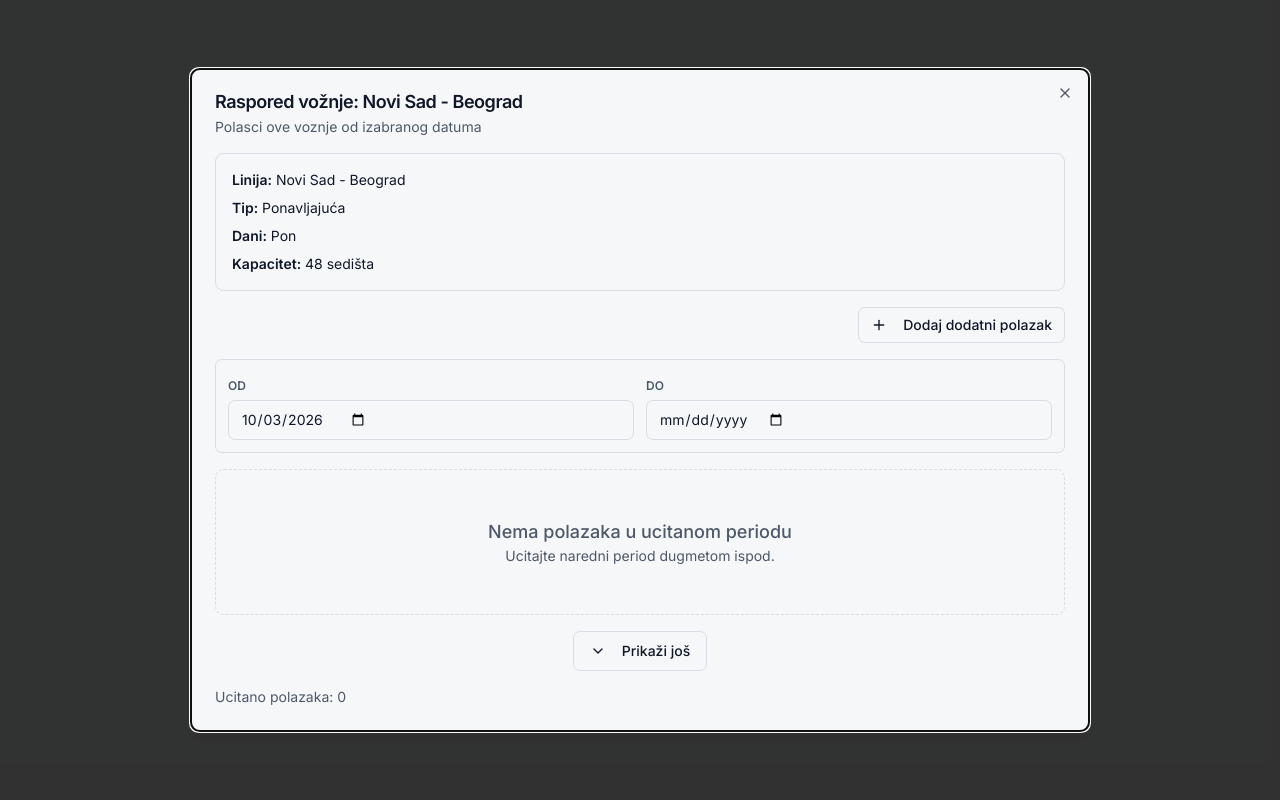
Scenario: RideInstancesView › keeps the date filters when the range has no departures, so it can be changed back
The width and height of the screenshot is (1280, 800).
Check: the text "Nema polazaka u ucitanom periodu" is shown, box [488,518,792,546]
Type "2026-10-04" into the date field labelled "Do".
click(849, 420); type("2026-10-04")  # box [646,400,1052,440]
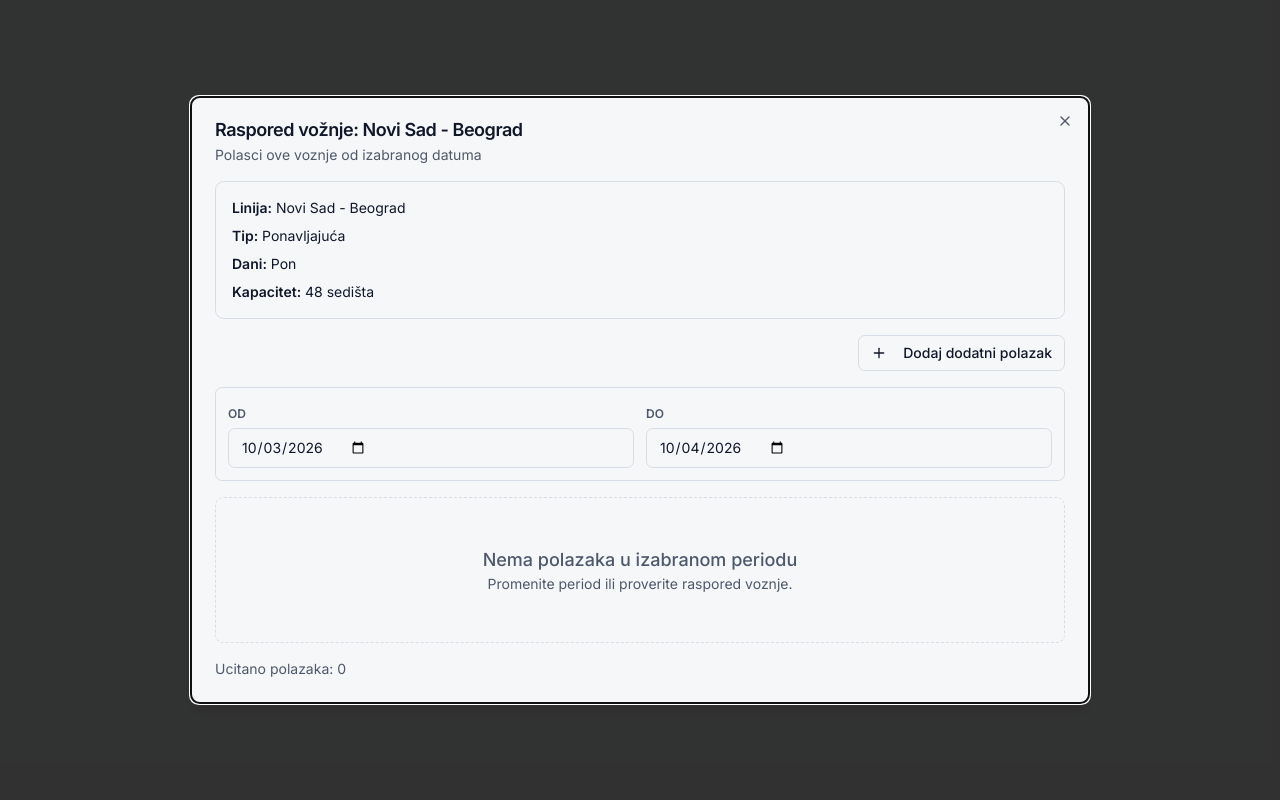
Check: the date field labelled "Od" is shown, box [228,428,634,468]
Check: the text "Nema polazaka u izabranom periodu" is shown, box [483,546,797,574]
Check: the button "Prika" is gone
Clear the date field labelled "Do" at (849, 448), box [646,428,1052,468]
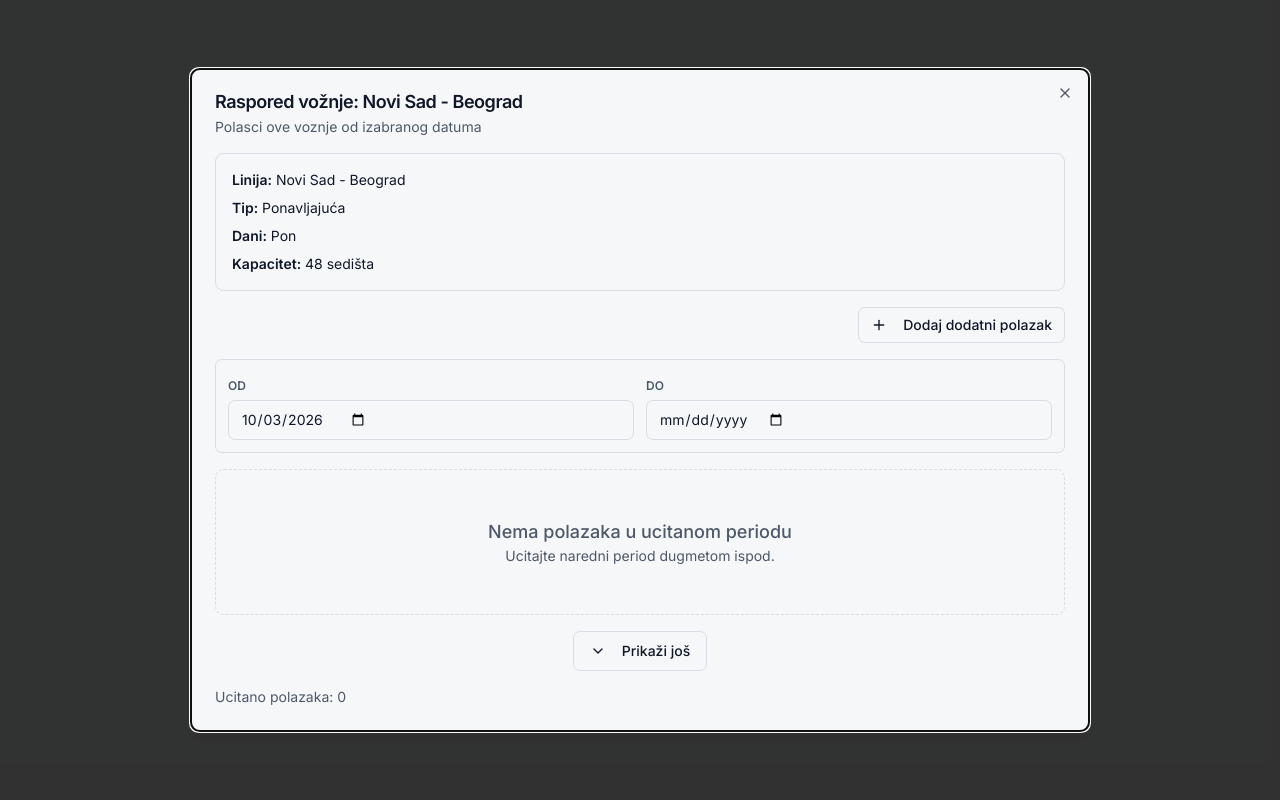
Check: the text "Nema polazaka u ucitanom periodu" is shown, box [488,518,792,546]
